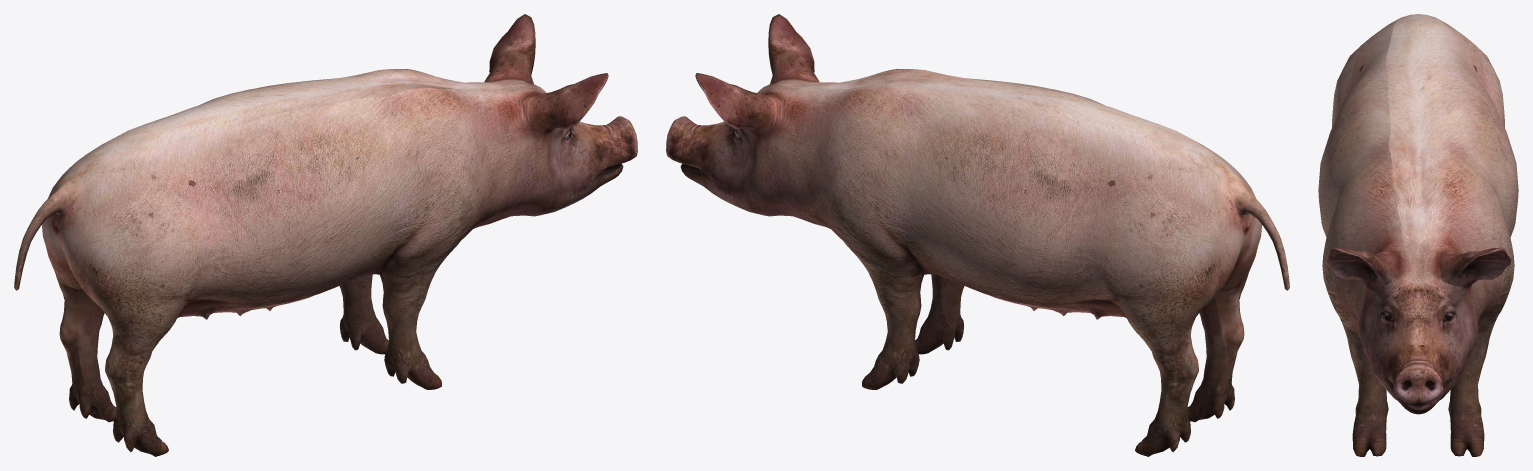
The model's file is piggy.glb.
3 views of the same model, side by side, from view 1: azimuth 30°, elevation 25°; view 2: azimuth 150°, elevation 25°; view 3: azimuth 270°, elevation 25° (orthographic).
Parts seen in each view (by area): view 1: ceda_paridera_animal.005; view 2: ceda_paridera_animal.005; view 3: ceda_paridera_animal.005.
Boxes of the visible parts, bbox=[...] form: ceda_paridera_animal.005: bbox=[14, 14, 637, 456]; ceda_paridera_animal.005: bbox=[666, 14, 1289, 456]; ceda_paridera_animal.005: bbox=[1318, 14, 1518, 456].
Bounding box in the file's own units: 6.89 × 3.25 × 1.92.
1 material, 1 textured.
